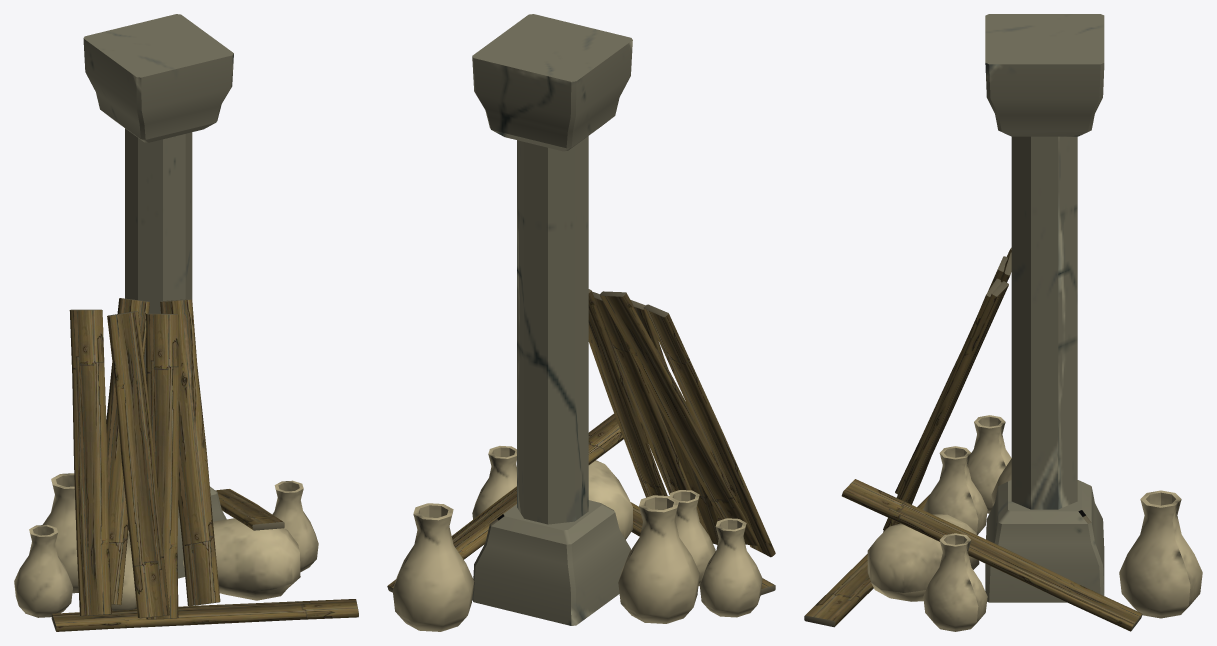
File: clusterColumn.fbx
3 renders of one model, left to right at view 1: azimuth 30°, elevation 25°; view 2: azimuth 150°, elevation 25°; view 3: azimuth 270°, elevation 25°, orthographic. The views are drawn at different scales.
Parts seen in each view (by area): view 1: pCube36; view 2: pCube36; view 3: pCube36.
Boxes of the visible parts, box(x1,y1,x2,y2) form: pCube36: box(14, 14, 358, 631); pCube36: box(387, 14, 775, 631); pCube36: box(804, 14, 1202, 631).
Bounding box in the file's own units: 2.32 × 4.02 × 2.69.
